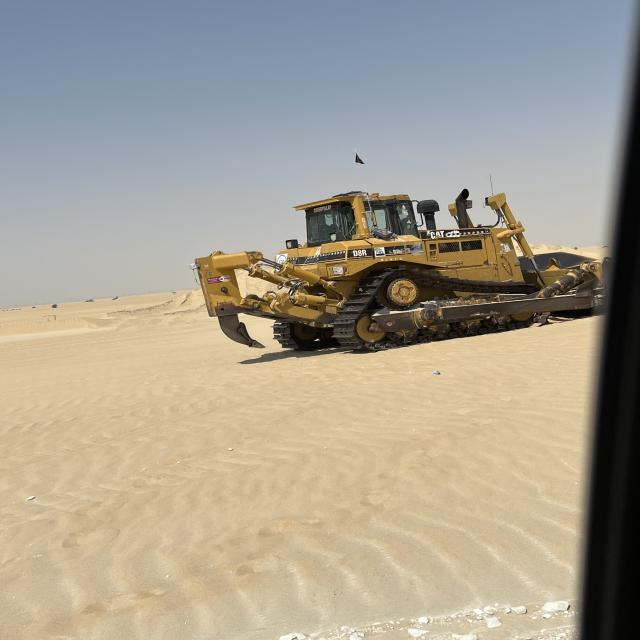buldozerpayloadergrader: (193, 152, 606, 368)
